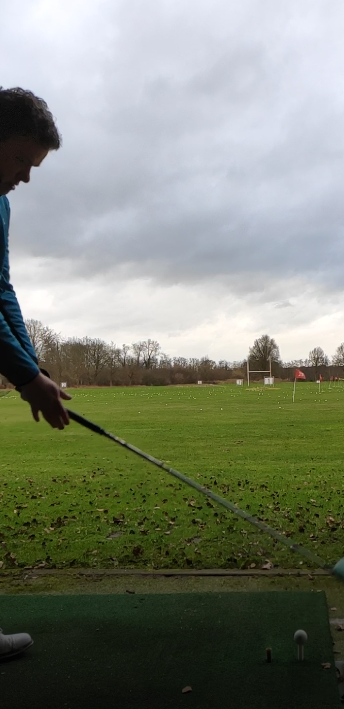golfball: (293, 629, 309, 645)
